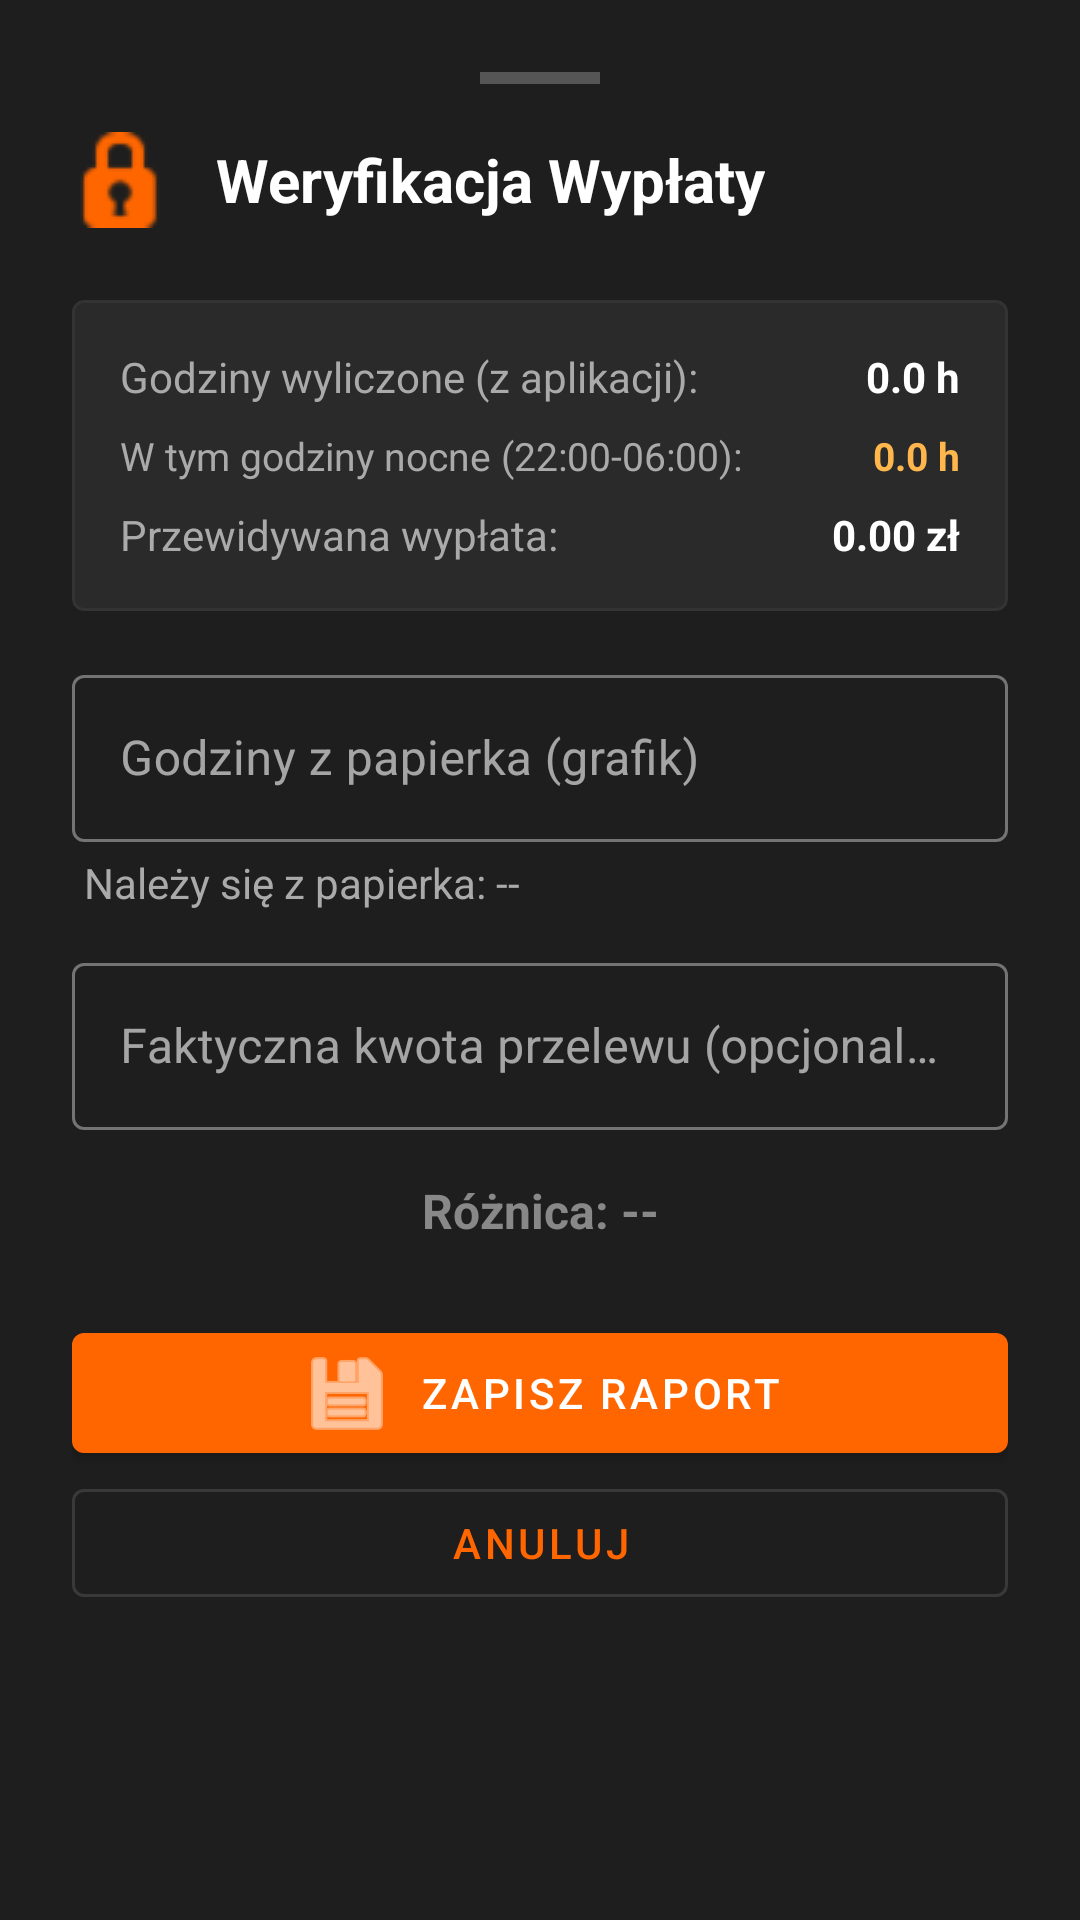

Where icons sit on this 1080w x 1920h app screen, as BBox(x1, y1, x2, y2):
secure: BBox(82, 132, 157, 228)
